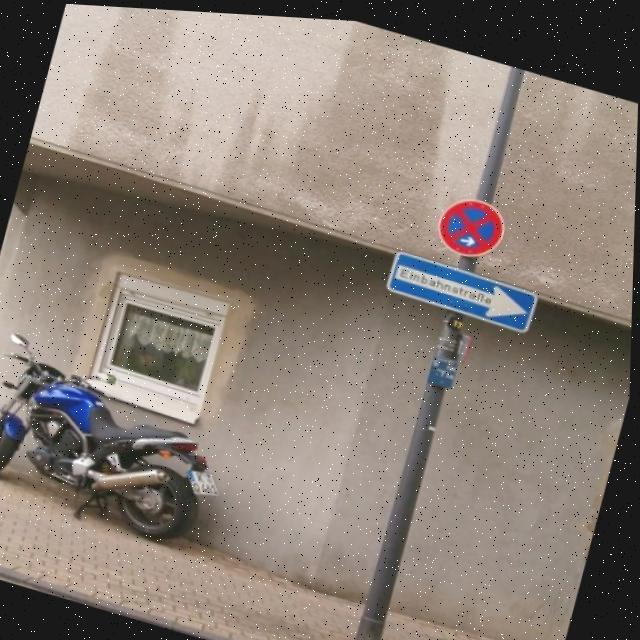motorcycle: (0, 322, 254, 569)
plate: (182, 464, 228, 504)
